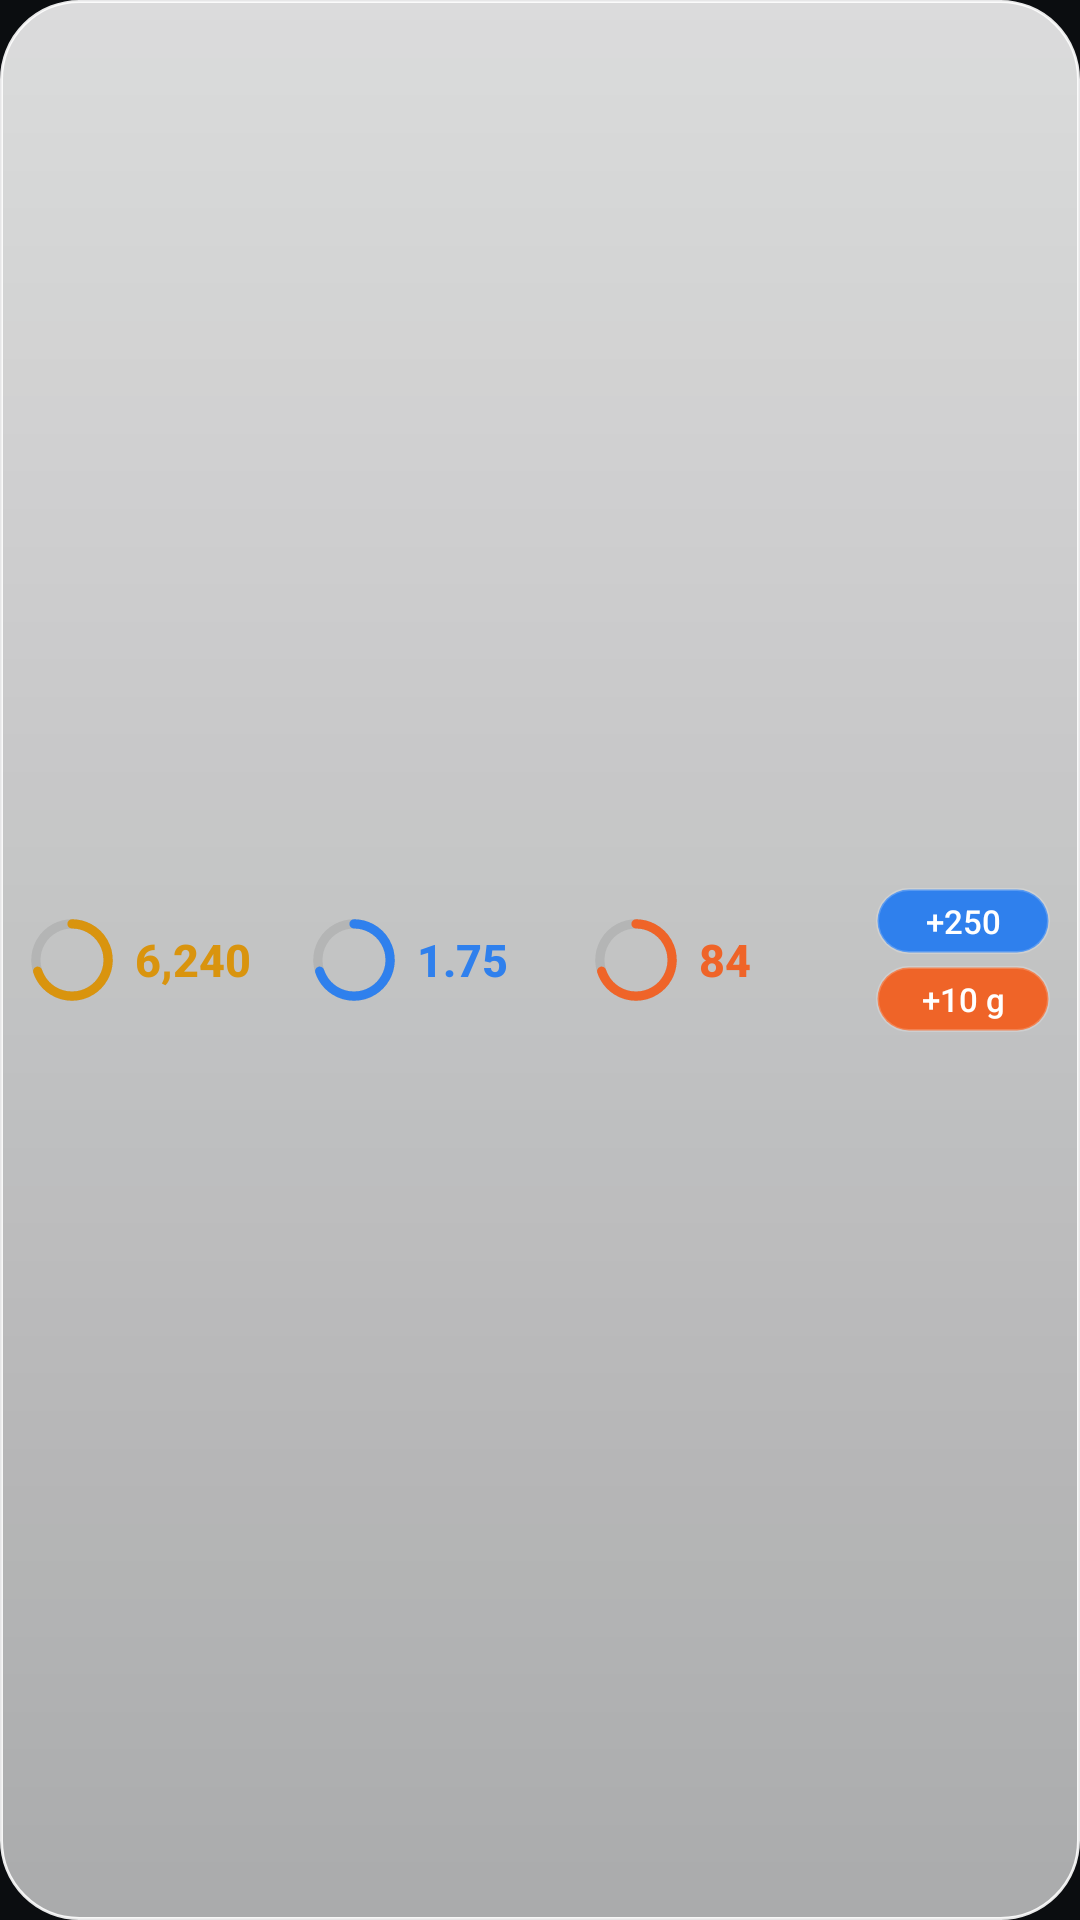

Named icons in this screenshot (1080 x 1920) and their bounding boxes, bbox(x1, y1, x2, y2):
widget ring protein: bbox(597, 919, 677, 1001)
widget ring steps: bbox(33, 919, 113, 1001)
widget ring water: bbox(315, 919, 395, 1001)
